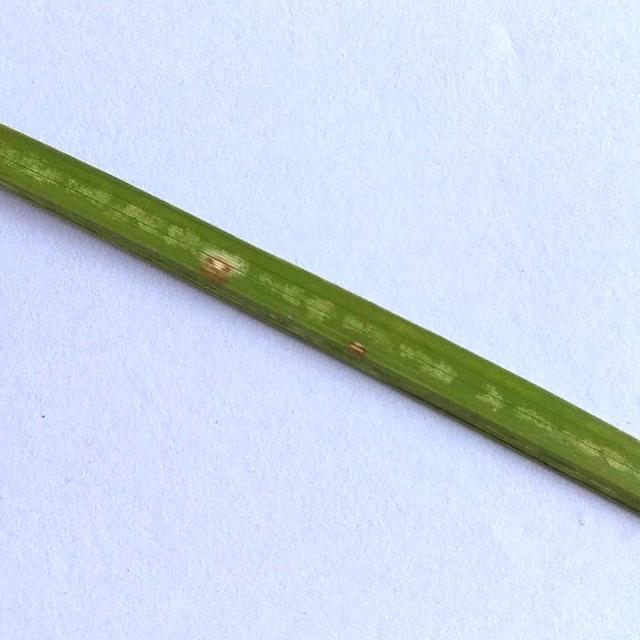Leaf blast: (0, 3, 640, 540)
